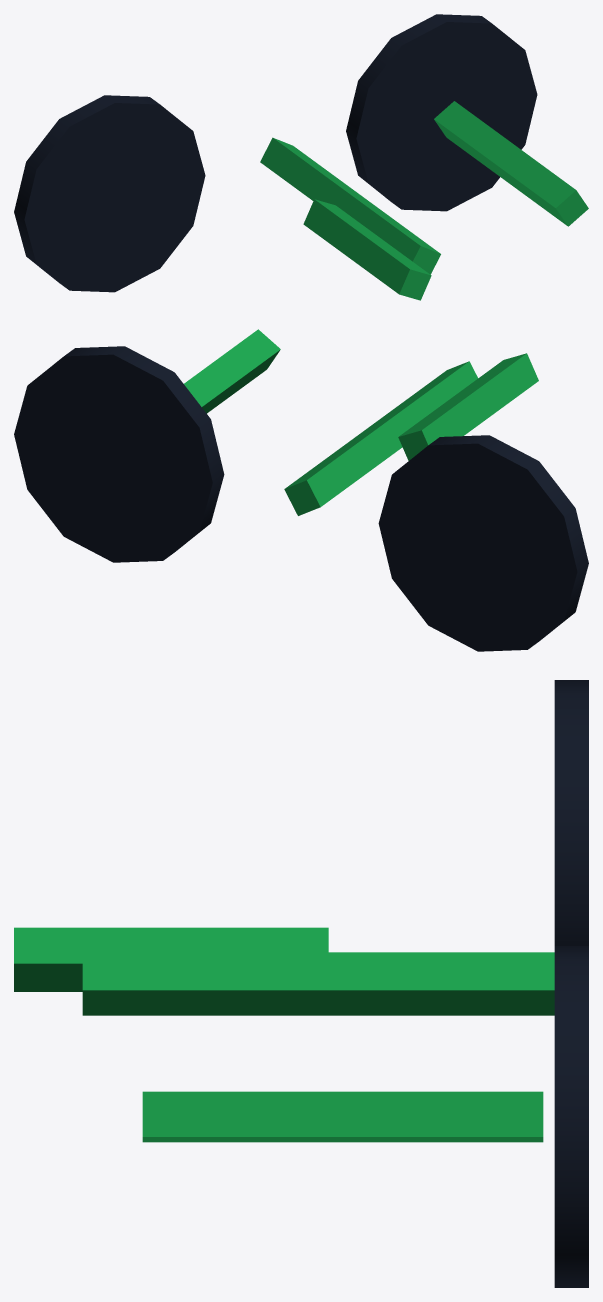
Rendered from bicycle.standard.glb.
The picture shows the model from 3 angles, top to bottom: view 1: azimuth 30°, elevation 25°; view 2: azimuth 150°, elevation 25°; view 3: azimuth 270°, elevation 25°; orthographic projection. The views are drawn at different scales.
Visible parts, largest first — view 1: bicycle.standard; view 2: bicycle.standard; view 3: bicycle.standard.
Part boxes in pixels (<box>): bicycle.standard: <box>14,14,588,300</box>; bicycle.standard: <box>14,329,588,651</box>; bicycle.standard: <box>14,680,588,1287</box>.
Size of the model in its own units: 1.7 by 0.6 by 1.01.
